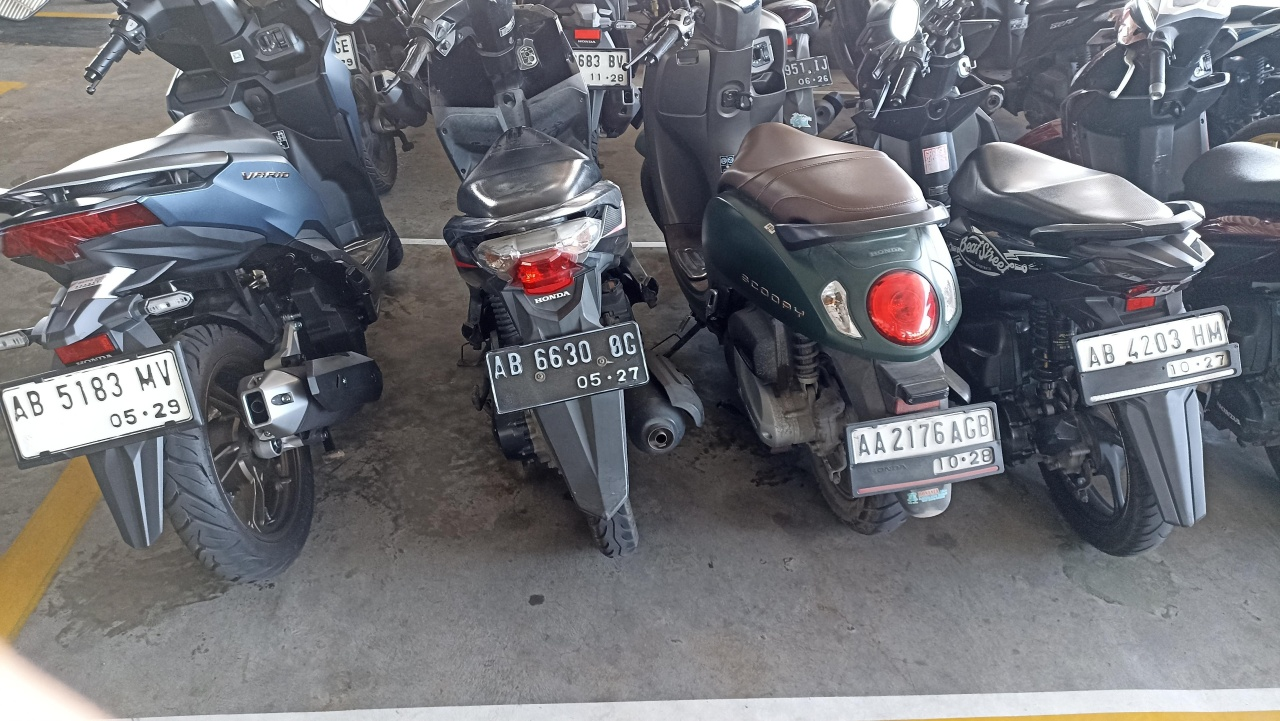plate: (0, 343, 201, 467), (1074, 307, 1242, 407), (487, 321, 650, 415), (848, 403, 1003, 498)
